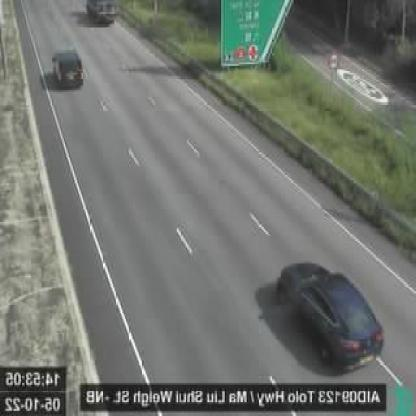Car: (278, 264, 386, 369), (53, 48, 86, 86)
